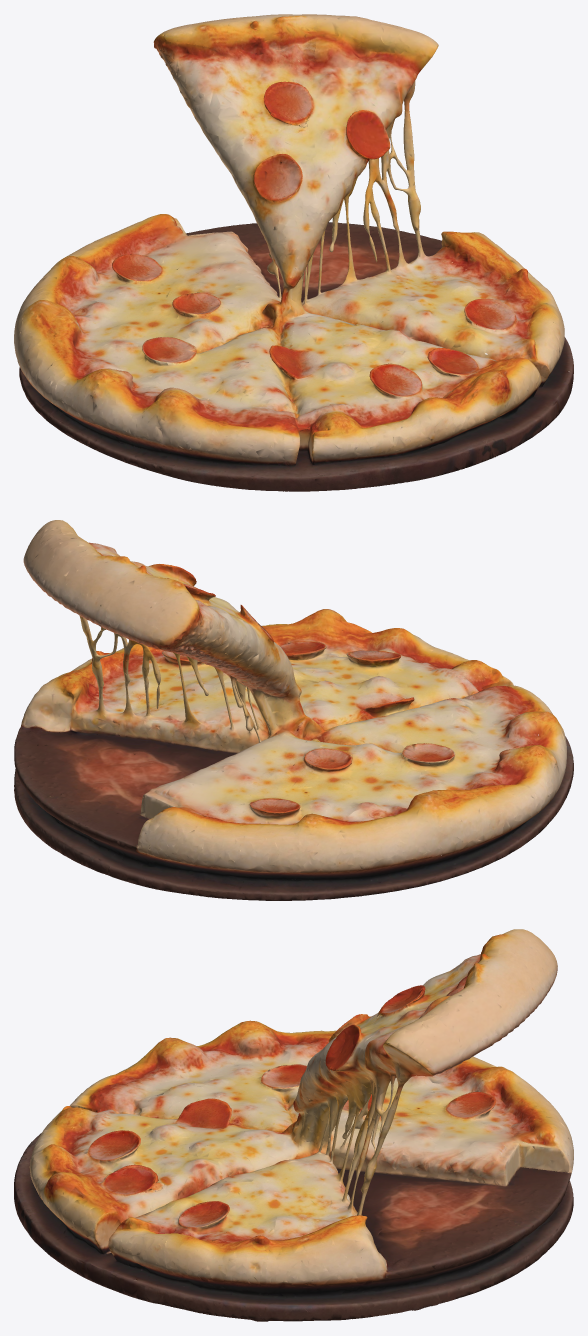
The model's file is menuAR-pizza-familia-40x40x22cm-OTIMIZADA.glb.
The picture shows the model from 3 angles, top to bottom: view 1: azimuth 30°, elevation 25°; view 2: azimuth 150°, elevation 25°; view 3: azimuth 270°, elevation 25°; orthographic projection.
Visible parts, largest first — view 1: pizza; view 2: pizza; view 3: pizza.
Boxes of the visible parts, x1,y1,x2,y2 form: pizza: [14, 14, 573, 491]; pizza: [14, 520, 573, 900]; pizza: [14, 929, 573, 1321].
Bounding box in the file's own units: 0.4 × 0.22 × 0.4.
1 material, 1 textured.
